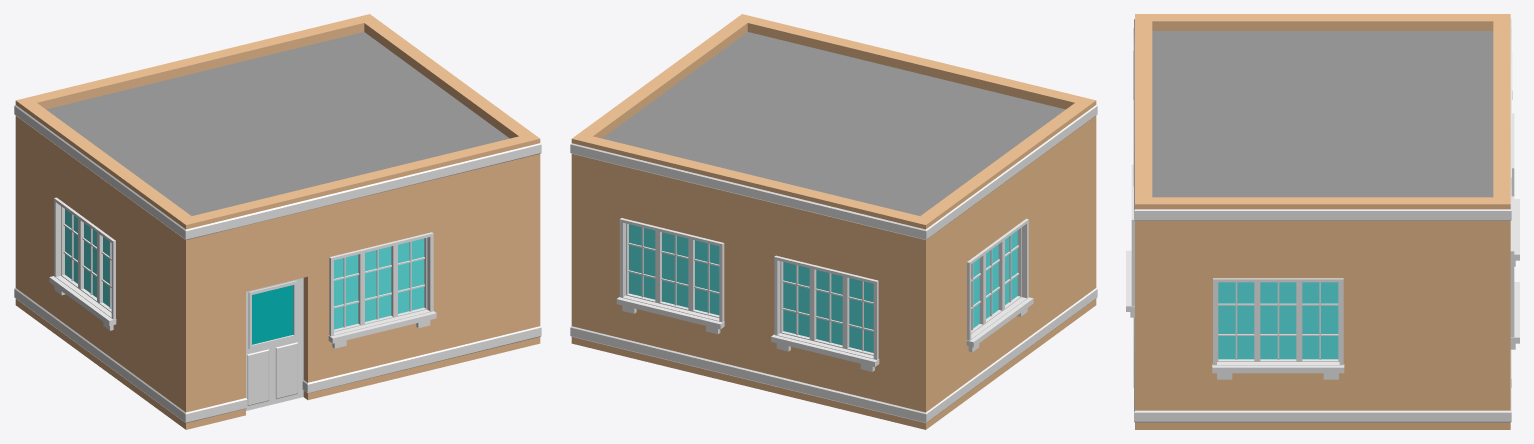
Rendered from SM_House_10_01.FBX.
3 renders of one model, left to right at view 1: azimuth 30°, elevation 25°; view 2: azimuth 150°, elevation 25°; view 3: azimuth 270°, elevation 25°, orthographic. The views are drawn at different scales.
Parts seen in each view (by area): view 1: SM_House_10_01; view 2: SM_House_10_01; view 3: SM_House_10_01.
Part boxes in pixels (x1,y1,x2,y2): SM_House_10_01: (14, 14, 541, 429); SM_House_10_01: (570, 14, 1097, 429); SM_House_10_01: (1126, 14, 1519, 429).
Bounding box in the file's own units: 6.23 × 3.32 × 5.25.
Materials: 1 (1 with a texture image).
